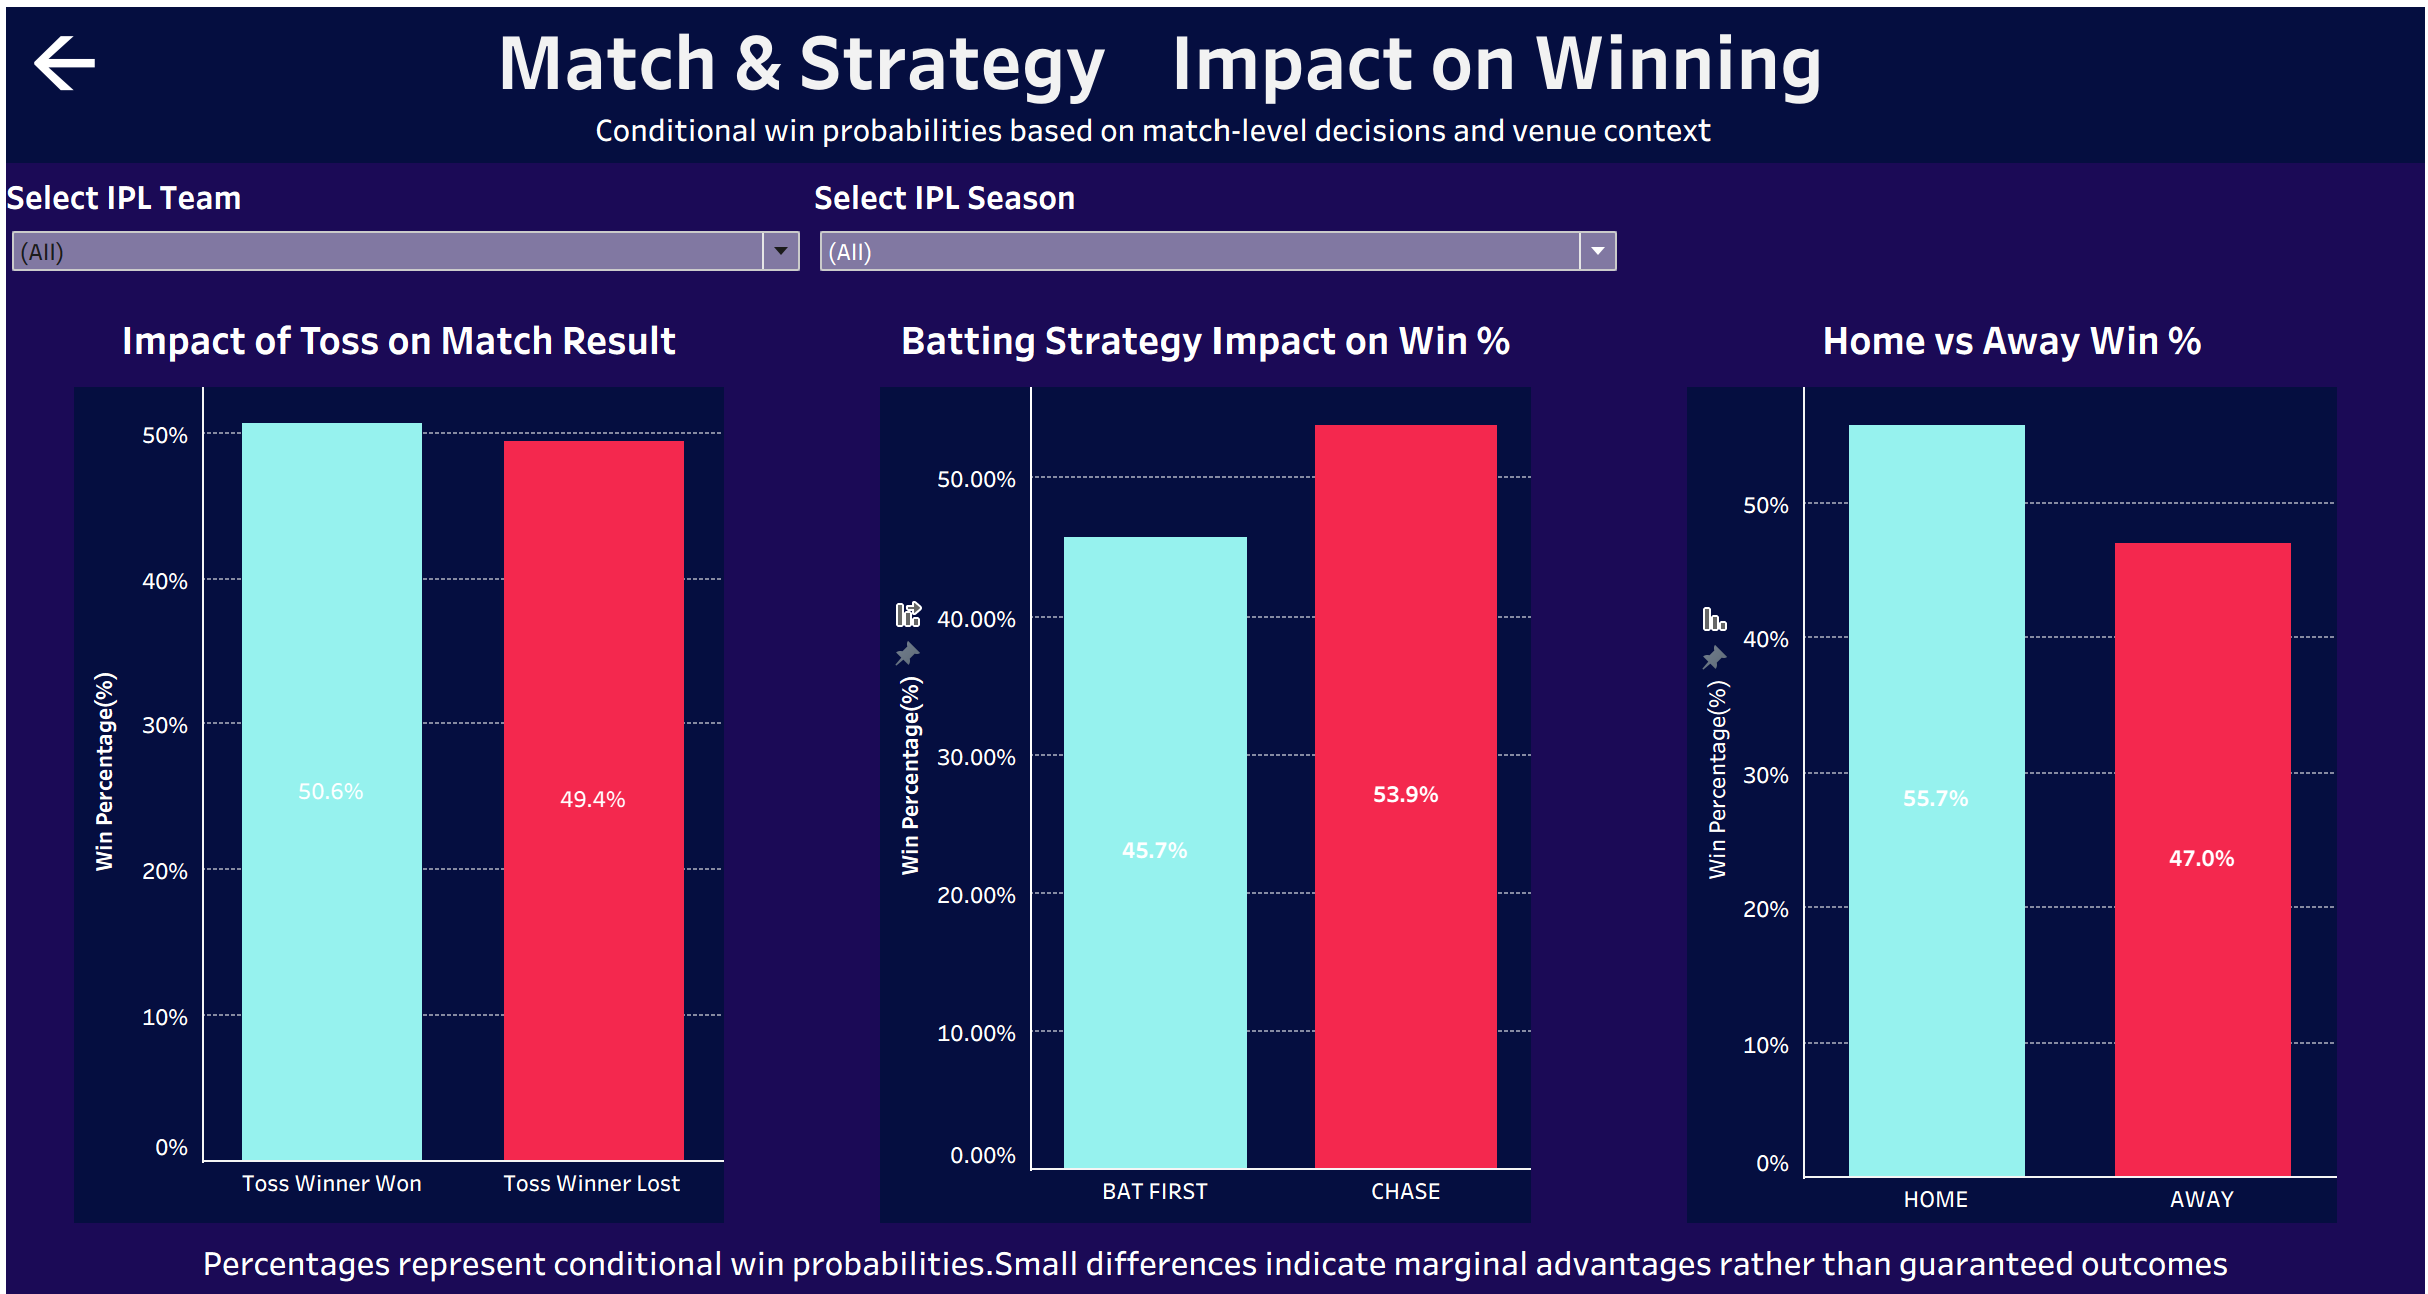

What the dashboard file says about the page in this screenshot:
{"tool":"tableau","page":{"name":"IPL – Match & Strategy Analysis","canvas":[1225,660],"ordinal":1},"visuals":[{"type":"dashboard-object","box":[8,8,59,52]},{"type":"text","box":[67,8,1150,52]},{"type":"text","box":[8,60,1209,32]},{"type":"filter","title":"Bat First vs Chase – Win %","param":"[federated.1q85gna0kmrjjv177o0d91upmfun].[none:Calculation_1381555582603264:nk]","box":[8,92,400,61]},{"type":"filter","title":"Bat First vs Chase – Win %","param":"[federated.1q85gna0kmrjjv177o0d91upmfun].[none:Calculation_1277333461417566208:o","box":[408,92,408,61]},{"type":"worksheet","title":"Toss Win vs Match Win","mark":"Bar","rows":["match_id"],"cols":["Calculation_0685563997507584"],"box":[8,153,403,467]},{"type":"worksheet","title":"Bat First vs Chase – Win %","mark":"Bar","rows":["Calculation_0685564054413317"],"cols":["Calculation_0685564053749761"],"box":[411,153,403,467]},{"type":"worksheet","title":"Home Advantage – Win %","mark":"Automatic","rows":["Calculation_0685564093390860"],"cols":["Calculation_0685564081942537"],"box":[814,153,403,467]},{"type":"text","box":[8,620,1209,32]}]}

Visuals, with their boxes in screenshot pixels (x1, y1, x2, y2), scaled from the page's 1225x660 canvas onto the 2428x1294 screenshot:
dashboard-object: {"x1": 16, "y1": 16, "x2": 133, "y2": 118}
text: {"x1": 133, "y1": 16, "x2": 2412, "y2": 118}
text: {"x1": 16, "y1": 118, "x2": 2412, "y2": 180}
"Bat First vs Chase – Win %" filter: {"x1": 16, "y1": 180, "x2": 809, "y2": 300}
"Bat First vs Chase – Win %" filter: {"x1": 809, "y1": 180, "x2": 1617, "y2": 300}
"Toss Win vs Match Win" worksheet (Bar marks): {"x1": 16, "y1": 300, "x2": 815, "y2": 1216}
"Bat First vs Chase – Win %" worksheet (Bar marks): {"x1": 815, "y1": 300, "x2": 1613, "y2": 1216}
"Home Advantage – Win %" worksheet: {"x1": 1613, "y1": 300, "x2": 2412, "y2": 1216}
text: {"x1": 16, "y1": 1216, "x2": 2412, "y2": 1278}
